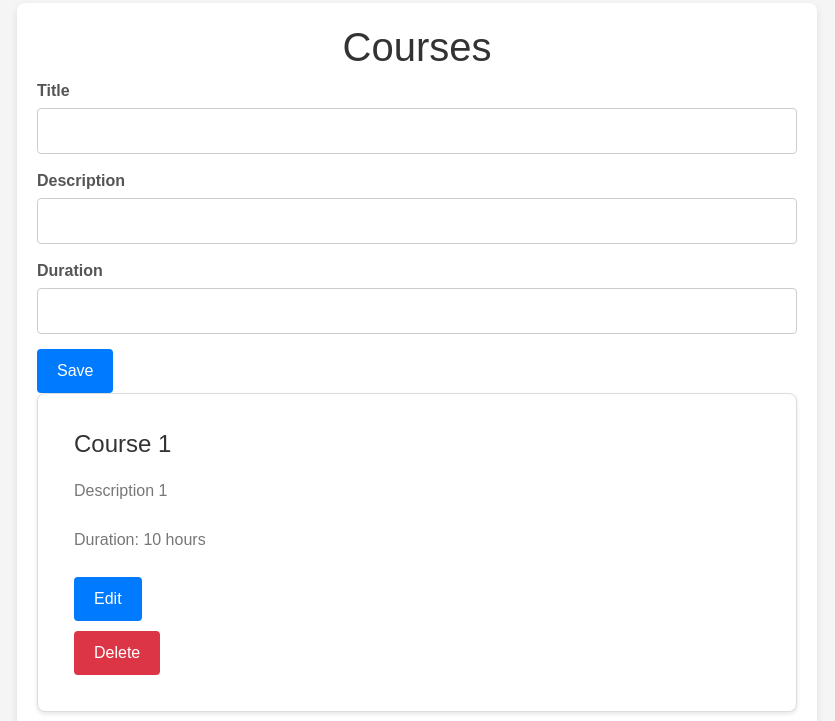
Course Management › should delete a course
Expected: the heading with class "course-list" reads "Course 1", top-left (74, 430), bottom-right (171, 457)
// Trigger the delete action
Click the button with class "btn-danger" at (117, 653), box top-left (74, 631), bottom-right (160, 675)
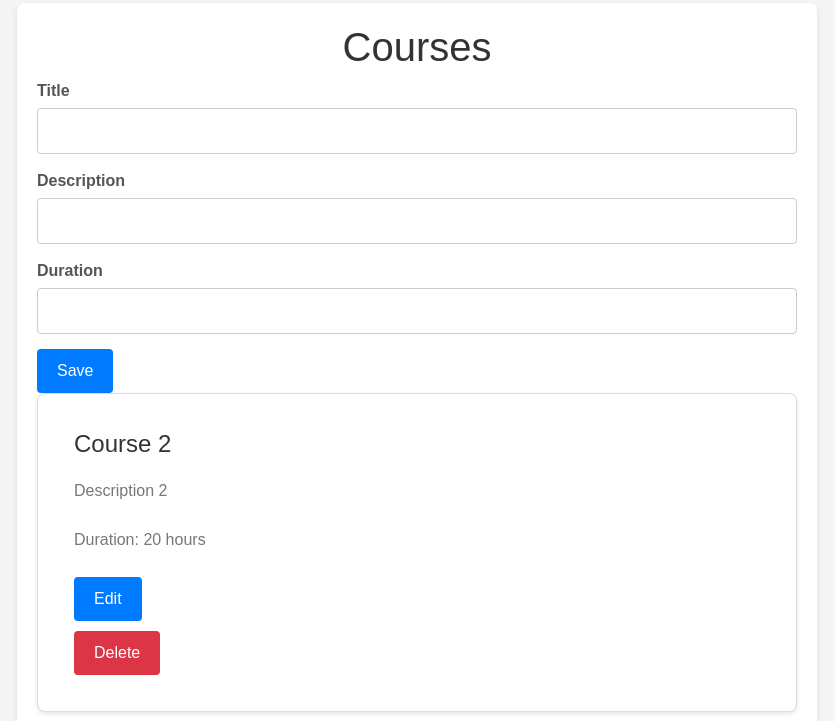
Now the heading with class "course-list" no longer shows "Course 1"
